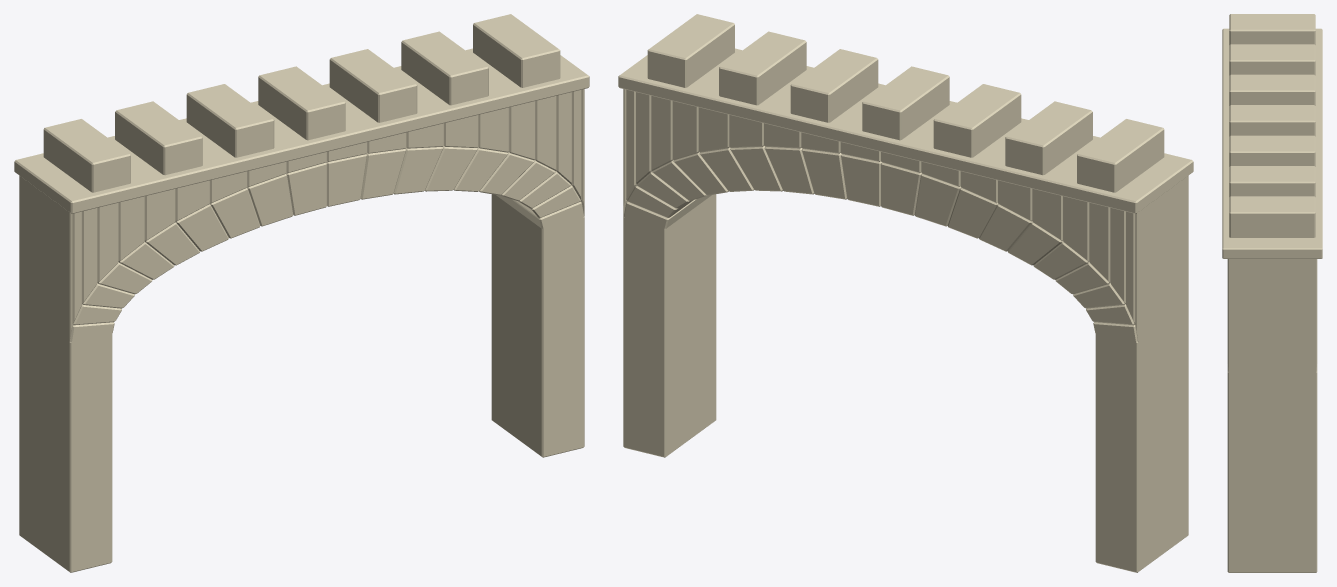
File: north_gate_arch_12m.glb
3 views of the same model, side by side, from view 1: azimuth 30°, elevation 25°; view 2: azimuth 150°, elevation 25°; view 3: azimuth 270°, elevation 25° (orthographic). The views are drawn at different scales.
Parts seen in each view (by area): view 1: north_gate_arch_12m; view 2: north_gate_arch_12m; view 3: north_gate_arch_12m.
Boxes of the visible parts, <box> form: north_gate_arch_12m: <box>14,14,589,572</box>; north_gate_arch_12m: <box>618,14,1193,572</box>; north_gate_arch_12m: <box>1222,14,1322,572</box>.
Bounding box in the file's own units: 14.5 × 10.78 × 2.8.
